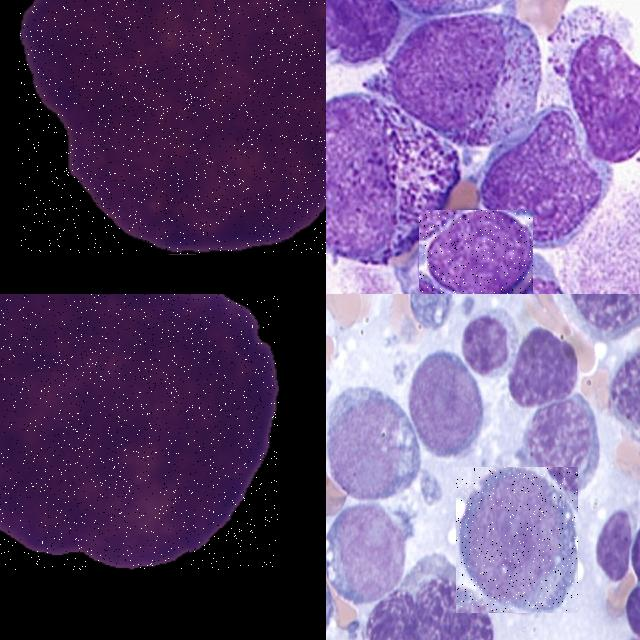ALL Negative Cells: (326, 94, 456, 274), (456, 467, 578, 613), (327, 381, 421, 498)
ALL Positive Cell: (18, 0, 326, 254), (0, 294, 278, 570), (398, 0, 545, 144), (483, 110, 606, 237), (418, 210, 532, 294), (581, 17, 640, 160), (507, 330, 582, 409), (414, 578, 496, 640), (326, 0, 393, 57), (369, 596, 421, 640), (622, 599, 640, 640), (632, 510, 640, 591)
